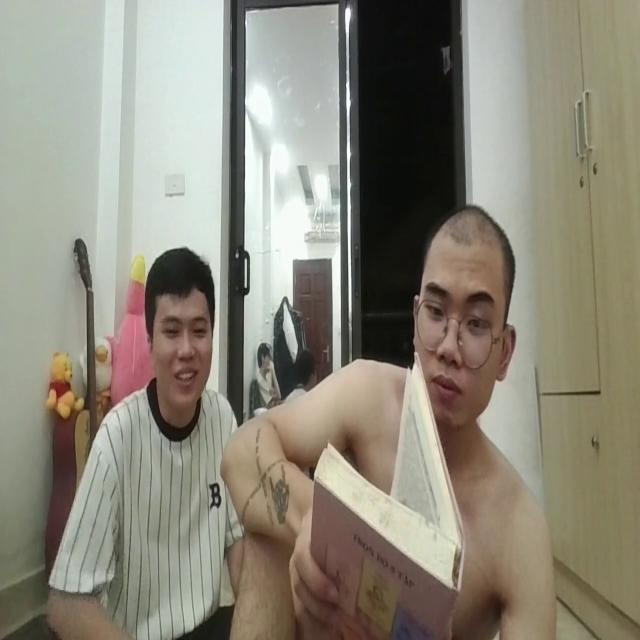book: (306, 344, 470, 638)
extra_person: (39, 250, 248, 640)
student: (227, 206, 557, 640)
